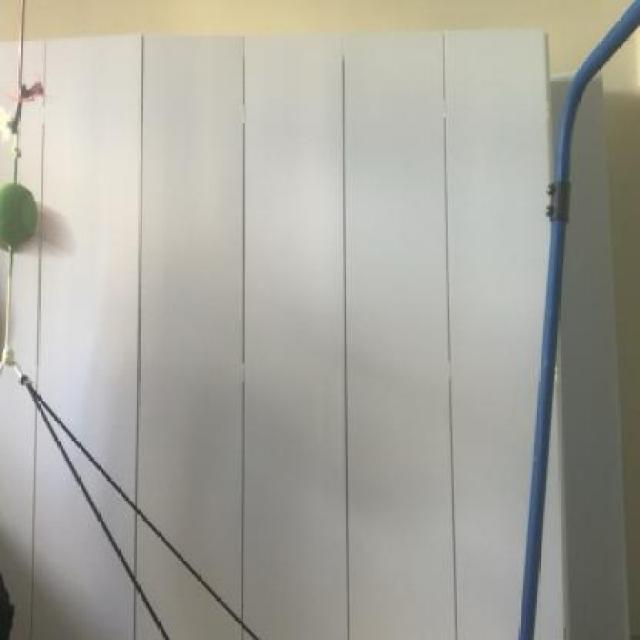baseball: (1, 171, 44, 266)
